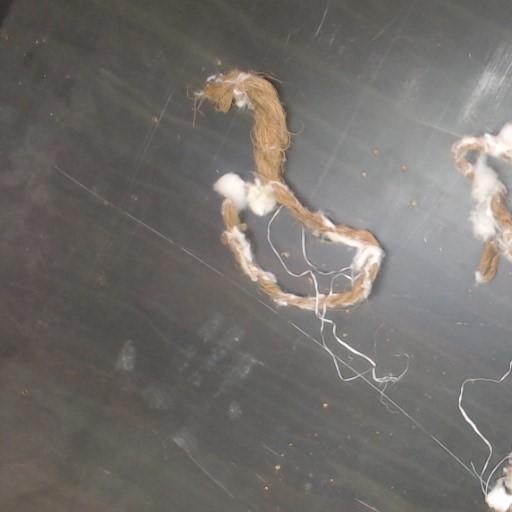conveyor belt: (0, 0, 511, 511), (463, 374, 511, 464)
cotton: (485, 452, 511, 511)
jute: (195, 70, 383, 310), (452, 123, 511, 283)
thread: (313, 303, 406, 385), (455, 360, 511, 495), (267, 209, 324, 298), (319, 265, 352, 295)
